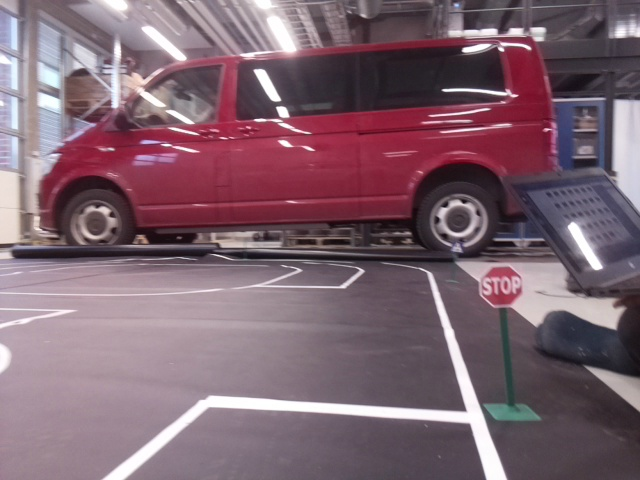Stop: (477, 265, 523, 307)
